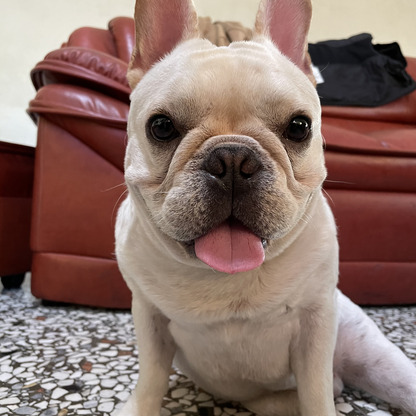bulldog: (106, 1, 416, 415)
